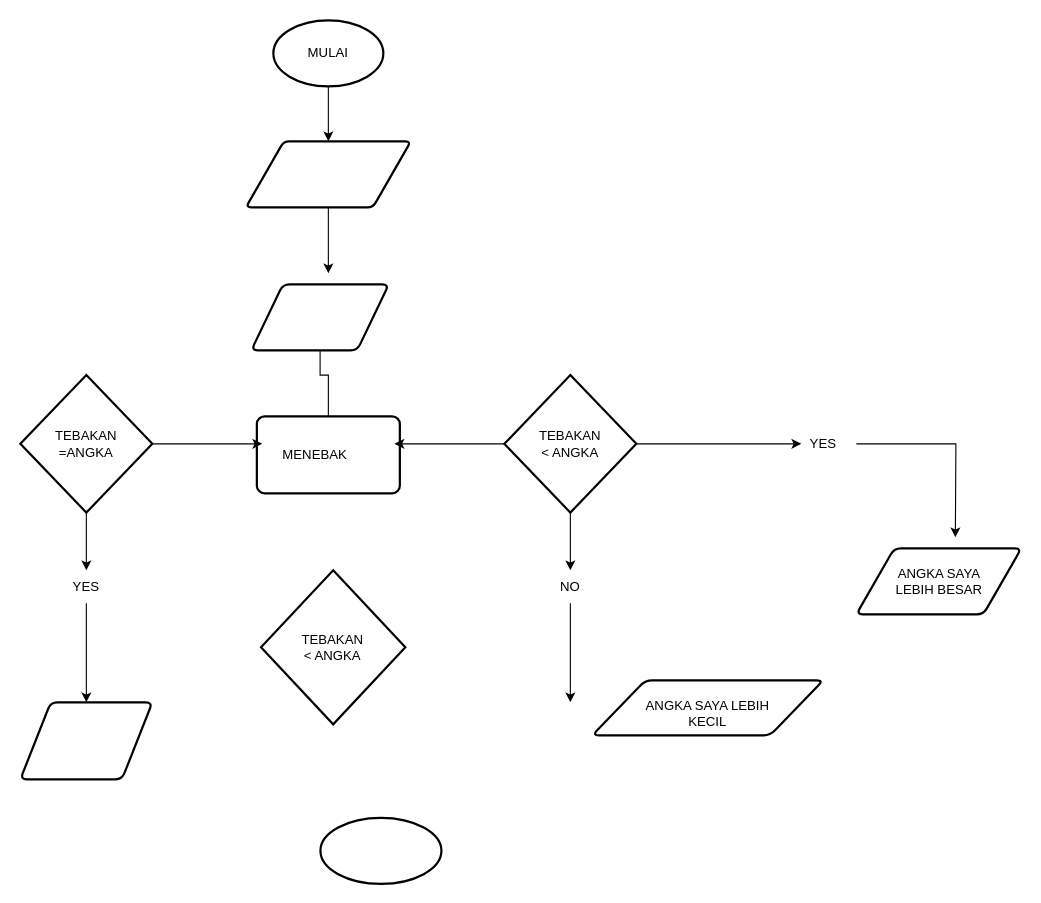
This 1041x903 diagram has some shape labels left out. The shapes that lost their labels are listed below. From the top down, each one's centre as x and y in pixels, then its label:
(x=327, y=174): AMGKA
(x=319, y=317): TEBAKAN
(x=86, y=740): BENAR
(x=380, y=850): AND
